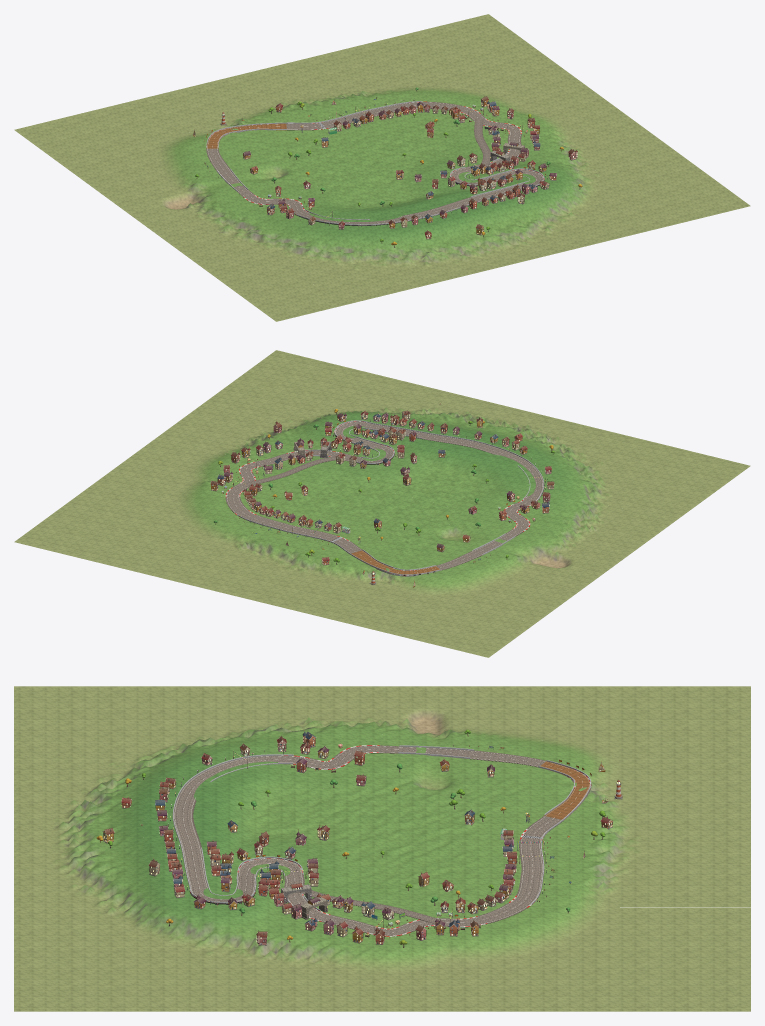
Rendered from porto-lanternas.glb.
3 renders of one model, top to bottom at view 1: azimuth 30°, elevation 25°; view 2: azimuth 150°, elevation 25°; view 3: azimuth 270°, elevation 25°, orthographic. The views are drawn at different scales.
Parts seen in each view (by area): view 1: terrain25, terrain18, terrain12, terrain24, terrain6, terrain0, terrain4, terrain1, terrain3, terrain28, terrain26, terrain14 (+33 smaller); view 2: terrain20, terrain12, terrain18, terrain2, terrain6, terrain3, terrain0, terrain7, terrain24, terrain4, terrain1, terrain15 (+38 smaller); view 3: terrain28, terrain10, terrain3, terrain0, terrain4, terrain1, terrain2, terrain24, terrain14, terrain6, terrain20, terrain15 (+50 smaller).
Part boxes in pixels (box(x1,y1,x2,y2)): terrain25: box(282, 216, 408, 280); terrain18: box(154, 207, 280, 266); terrain12: box(107, 175, 233, 231); terrain24: box(201, 244, 327, 300); terrain6: box(61, 144, 187, 197); terrain0: box(14, 110, 140, 163); terrain4: box(337, 31, 464, 84); terrain1: box(95, 90, 220, 144); terrain3: box(256, 51, 383, 103); terrain28: box(524, 168, 650, 221); terrain26: box(362, 196, 488, 259); terrain14: box(269, 134, 395, 187); terrain20: box(386, 451, 513, 510); terrain12: box(501, 530, 628, 589); terrain18: box(548, 499, 674, 555); terrain2: box(246, 564, 372, 618); terrain6: box(455, 566, 581, 623); terrain3: box(166, 545, 292, 598); terrain0: box(408, 604, 534, 657); terrain7: box(375, 545, 500, 603); terrain24: box(595, 467, 721, 521); terrain4: box(85, 525, 211, 578); terrain1: box(327, 584, 453, 637); terrain15: box(261, 470, 385, 524); terrain28: box(96, 893, 226, 963); terrain10: box(489, 901, 619, 963); terrain3: box(620, 851, 750, 907); terrain0: box(620, 686, 750, 741); terrain4: box(620, 908, 750, 963); terrain1: box(620, 741, 750, 796); terrain2: box(620, 797, 750, 852); terrain24: box(96, 686, 226, 741); terrain14: box(358, 788, 488, 846); terrain6: box(489, 686, 619, 741); terrain20: box(227, 782, 357, 845); terrain15: box(358, 844, 488, 900).
Size of what is drawn, in the model's own units: 705 by 58.31 by 675.
Materials: 35 (21 with a texture image).
